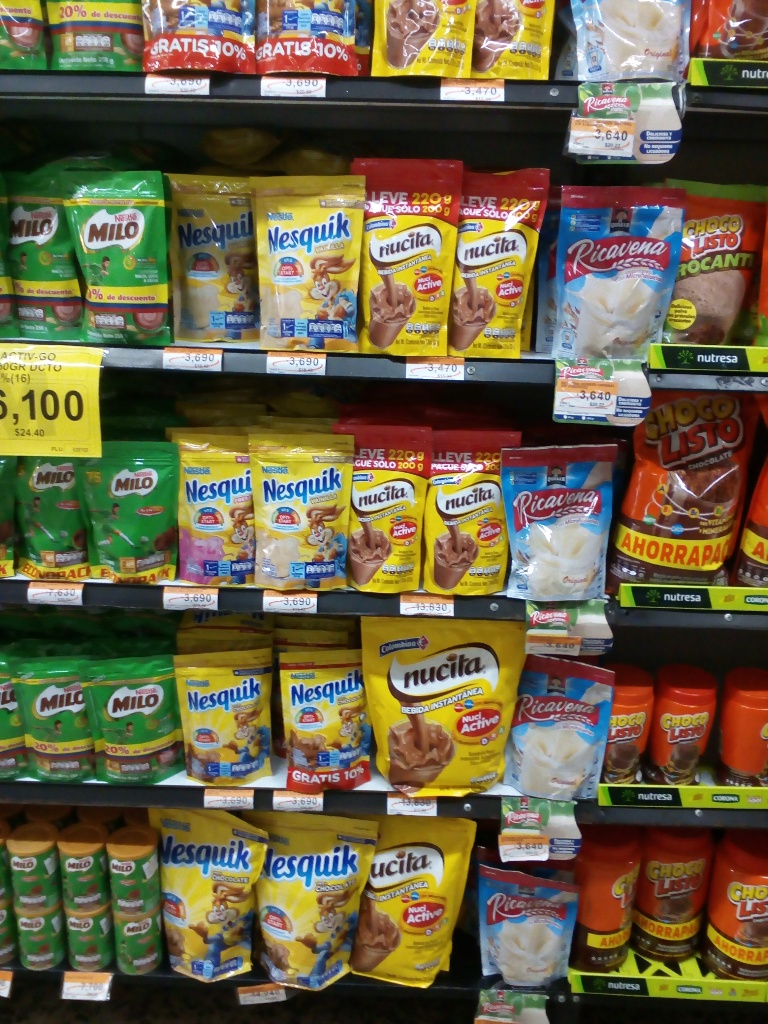COL0170102DYP25000: (672, 175, 764, 347)
COL0170103DYP1,500: (632, 393, 763, 582)
COL0170103TRR00100: (561, 829, 631, 975)
COL0170103TRR30000: (601, 662, 644, 783)
COL0170203DYP25000: (4, 167, 82, 344)
COL0170203LAT20000: (4, 824, 62, 911)
COL0170303DYP20000: (178, 651, 269, 782)
COL0170305DYP20000: (171, 440, 250, 581)
COL0170306DYP20000: (168, 176, 254, 341)
